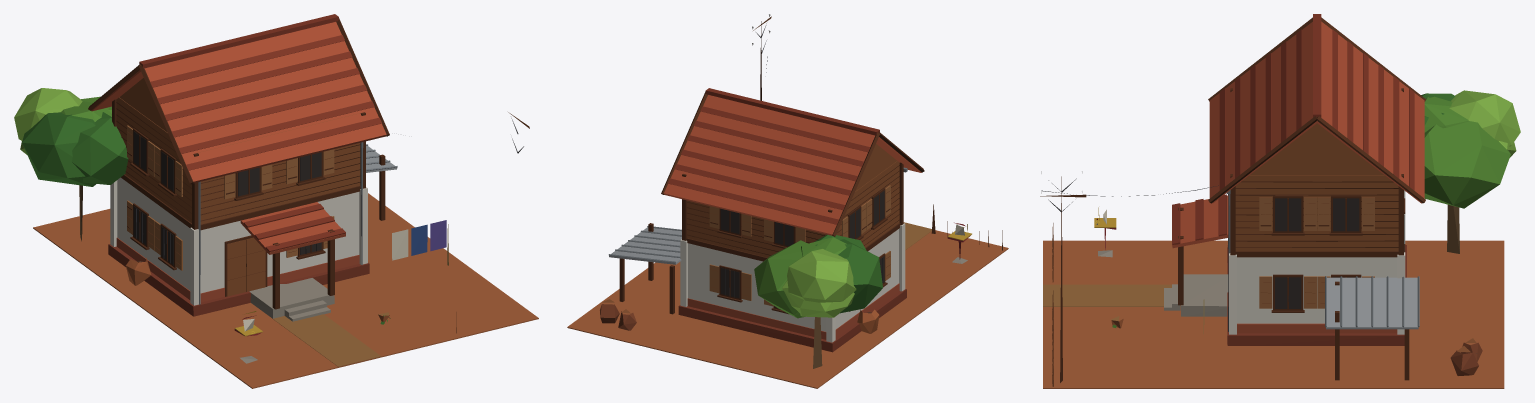
Rendered from house12_1.glb.
The picture shows the model from 3 angles, left to right: view 1: azimuth 30°, elevation 25°; view 2: azimuth 150°, elevation 25°; view 3: azimuth 270°, elevation 25°; orthographic projection. The views are drawn at different scales.
Visible parts, largest first — view 1: body, windows; view 2: body, windows; view 3: body, windows.
Part boxes in pixels (x1,y1,x2,y2): body: (14, 14, 538, 388); windows: (133, 131, 321, 265); body: (567, 14, 1008, 388); windows: (720, 190, 884, 307); body: (1040, 14, 1520, 388); windows: (1275, 198, 1359, 308).
Bounding box in the file's own units: 13.46 × 9.26 × 16.67.
